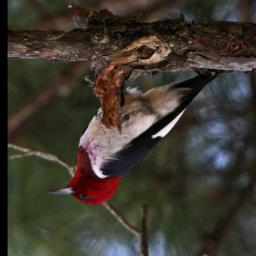Woodpecker: (44, 68, 235, 207)
